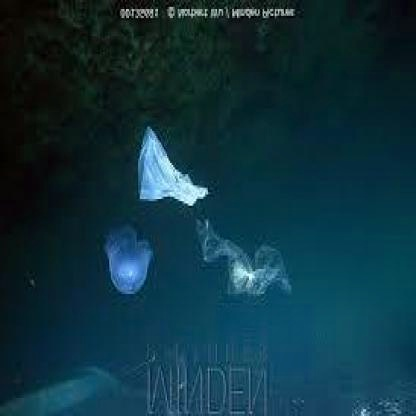pbag: (192, 212, 294, 303), (131, 120, 211, 208), (97, 220, 155, 308)
